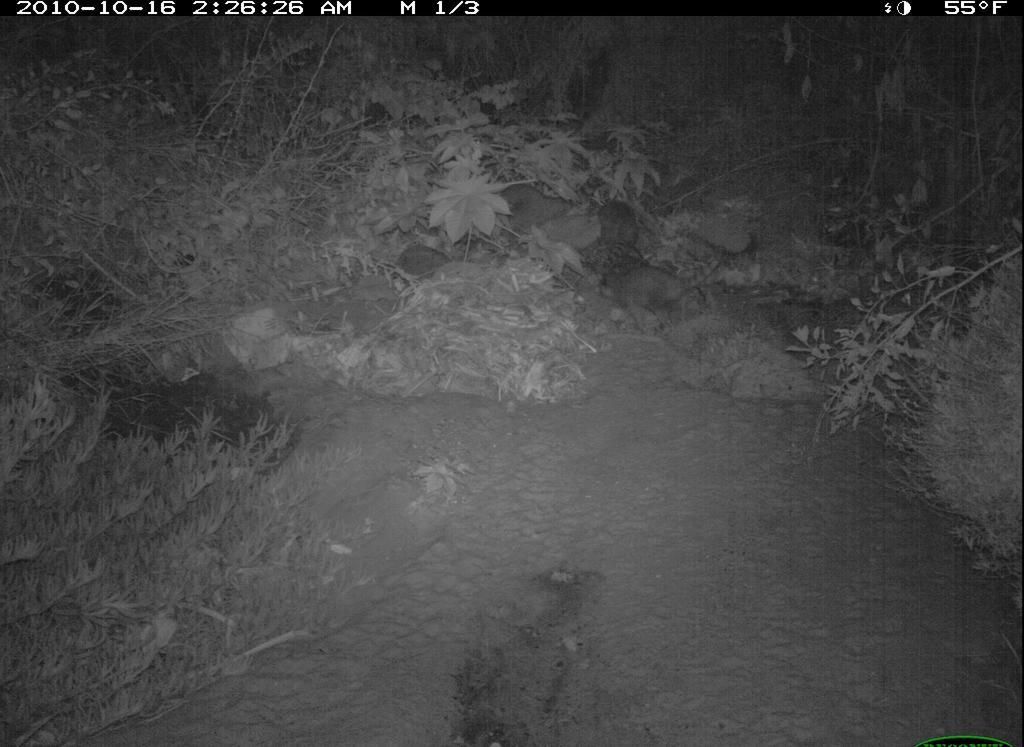raccoon: (577, 196, 652, 290)
